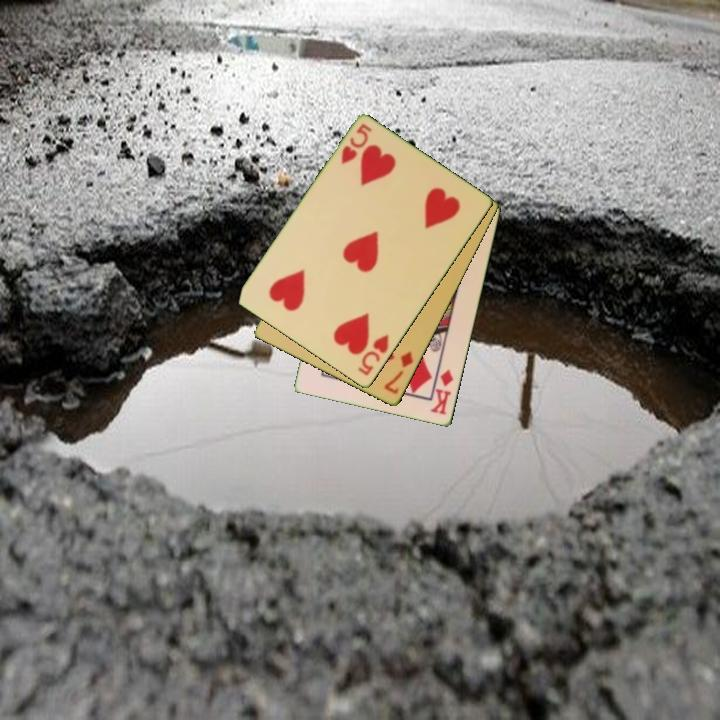5h: (354, 331, 392, 379), (338, 120, 375, 168)
7d: (381, 348, 416, 397)
Kd: (427, 366, 457, 418)
